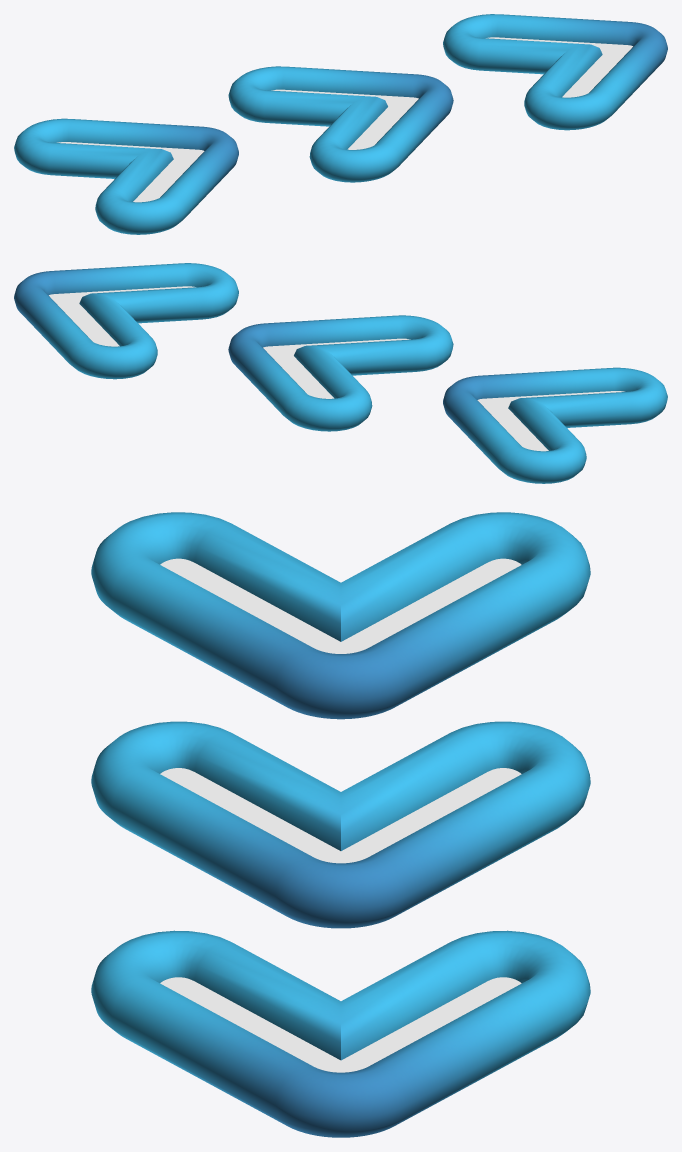
Rendered from tarimArrow2.FBX.
3 views of the same model, one above another, from view 1: azimuth 30°, elevation 25°; view 2: azimuth 150°, elevation 25°; view 3: azimuth 270°, elevation 25° (orthographic). The views are drawn at different scales.
Visible parts, largest first — view 1: arrow003; view 2: arrow003; view 3: arrow003.
Boxes of the visible parts, <box> form: arrow003: <box>14,14,667,234</box>; arrow003: <box>14,263,667,483</box>; arrow003: <box>91,512,590,1137</box>.
Bounding box in the file's own units: 12769 × 600 × 4584.
Materials: 2 (2 with a texture image).
